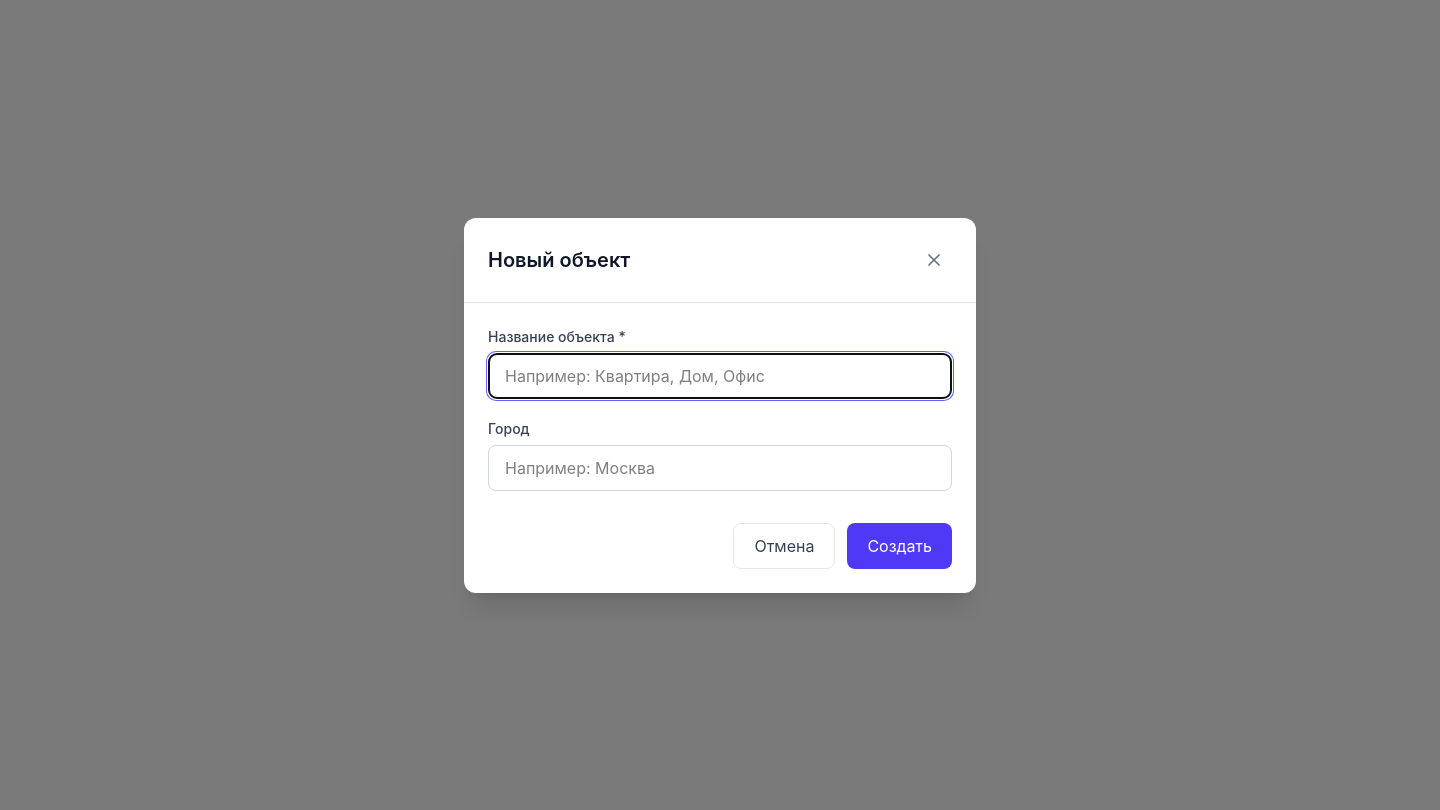
CreateObjectModal › should show error when submitting without name
Click the button "Создать" at (900,546), box [847,522,952,568]
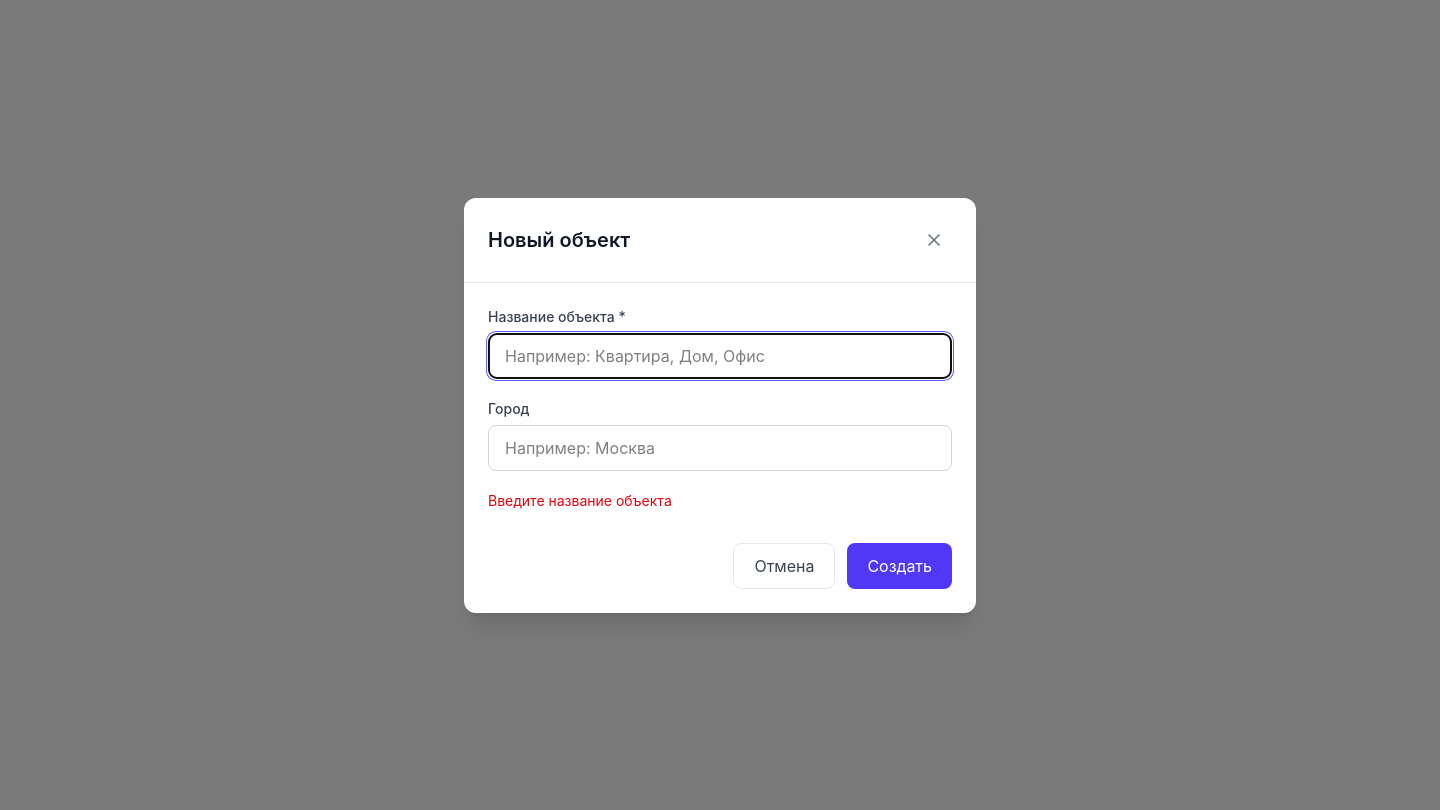
expect the text "Введите название объекта" is shown: met, box [488,492,672,508]
